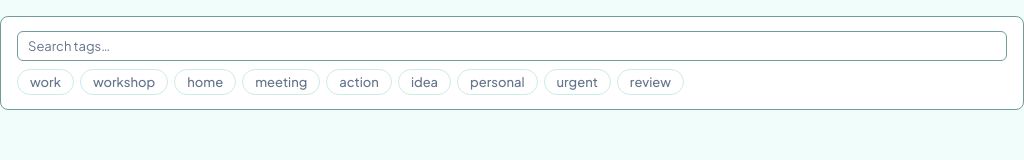
it: TagFilter — tag-search box (CHANGE-18) › typing filters the displayed pills case-insensitively
The width and height of the screenshot is (1024, 160).
Type "wo" into the field with test id "tag-filter-search".
click(512, 46); type("wo")  # box [17,31,1007,61]
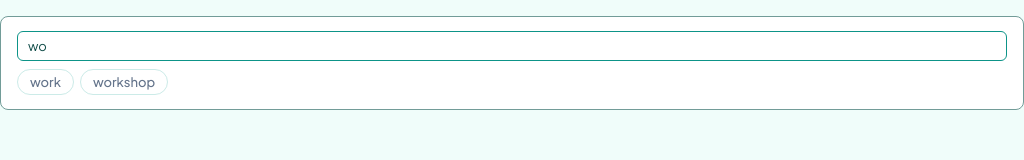
Check: the button with test id "tag-filter-pill-work" is shown, box [17,69,74,95]
Check: the button with test id "tag-filter-pill-meeting" is gone
Check: the button with test id "tag-filter-pill-home" is gone
